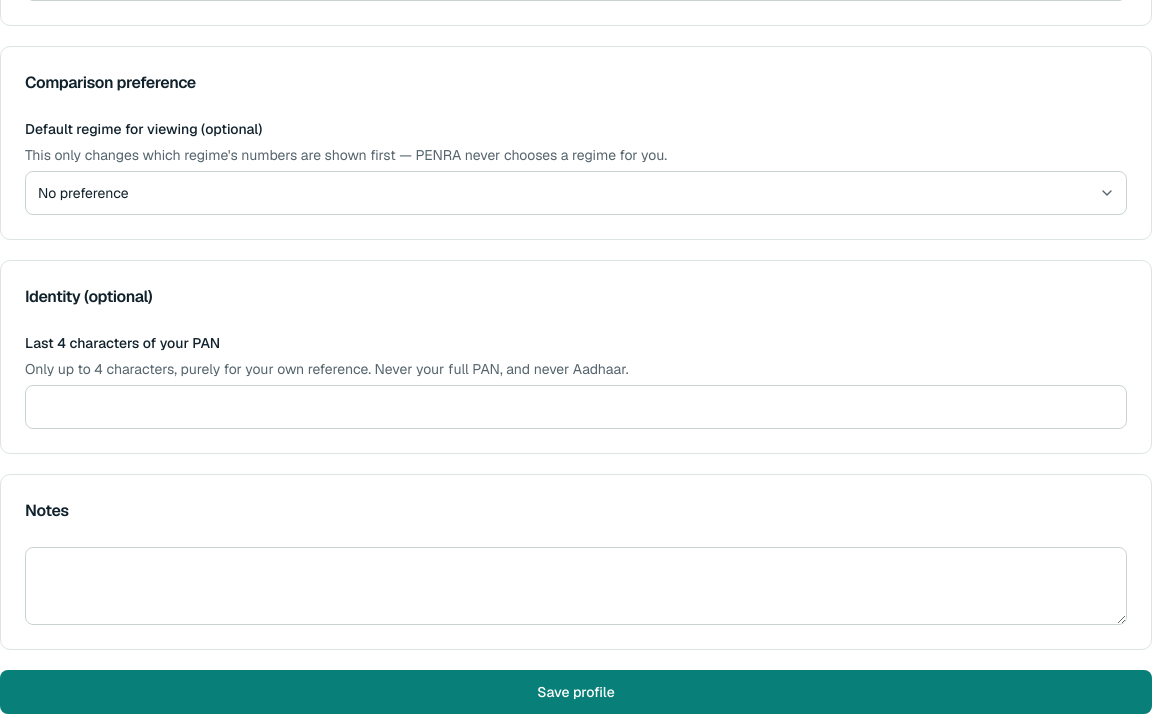
it: TaxProfileForm — validation › shows the generic error message alongside field errors
The width and height of the screenshot is (1152, 714).
(page scrolled)
Step 1. Click the button "Save profile" → (576, 692), box x1=0 y1=670 x2=1151 y2=713
(page scrolled)
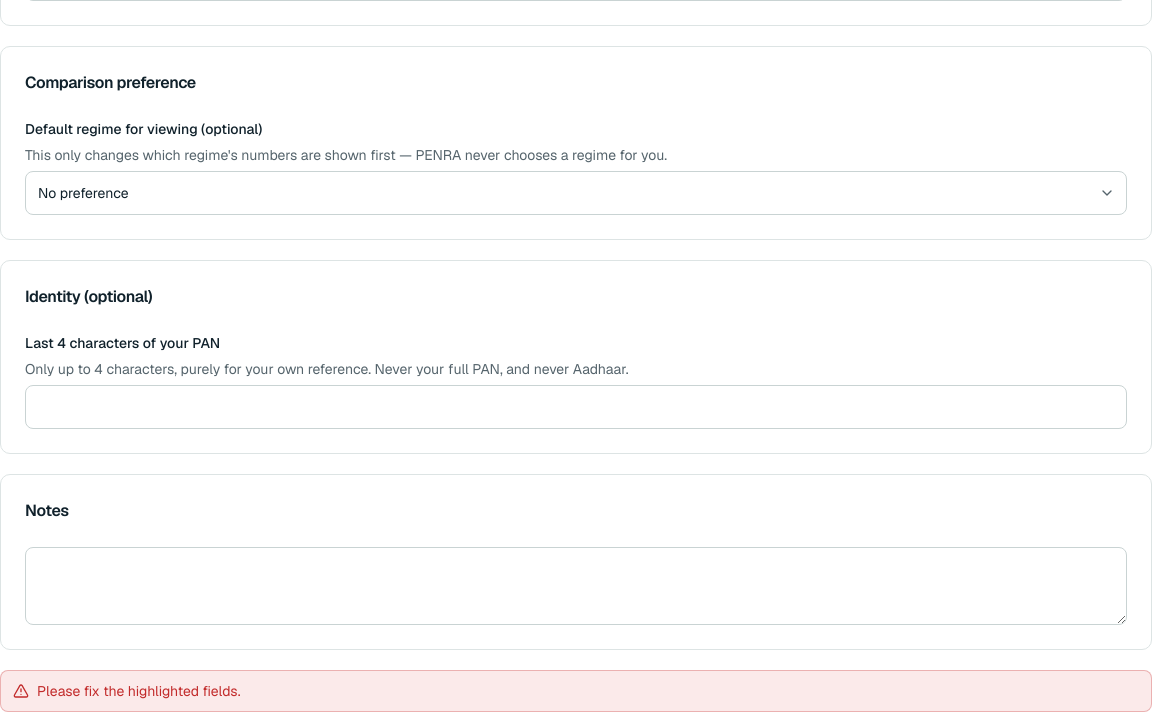
Now the text "Please fix the highlighted fields." is shown, box x1=37 y1=681 x2=240 y2=701
